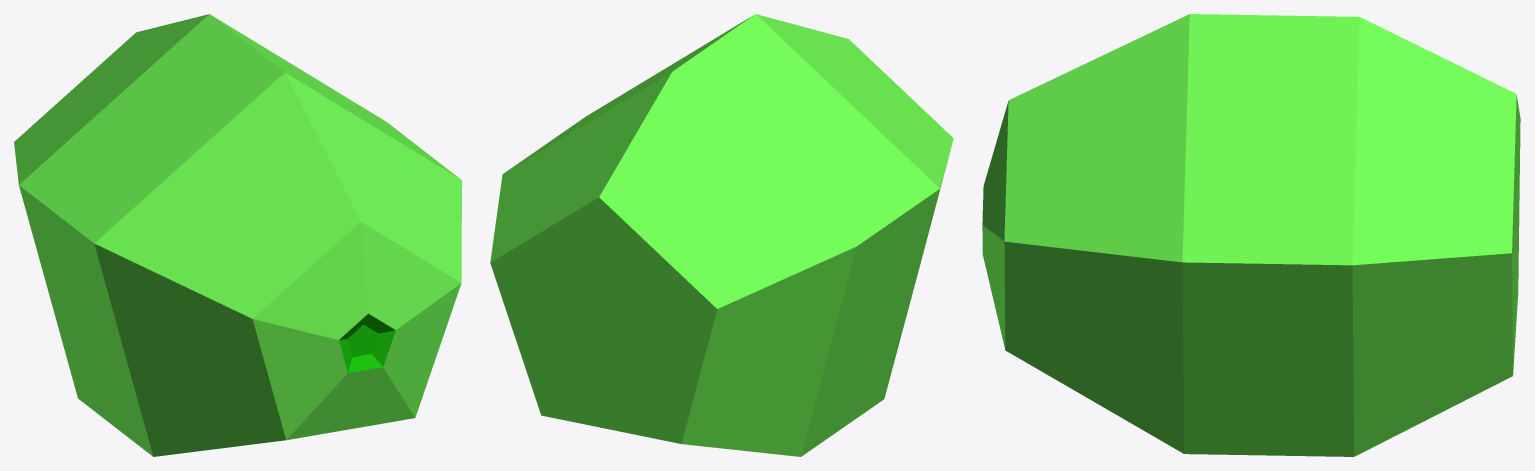
Rendered from grapes02.obj.
3 renders of one model, left to right at view 1: azimuth 30°, elevation 25°; view 2: azimuth 150°, elevation 25°; view 3: azimuth 270°, elevation 25°, orthographic. The views are drawn at different scales.
Visible parts, largest first — view 1: Cylinder.001; view 2: Cylinder.001; view 3: Cylinder.001.
Boxes of the visible parts, x1,y1,x2,y2 form: Cylinder.001: (14, 14, 461, 456); Cylinder.001: (490, 14, 953, 456); Cylinder.001: (982, 14, 1520, 456).
Bounding box in the file's own units: 0.0196 × 0.0188 × 0.0234.
Materials: 1 (1 with a texture image).
